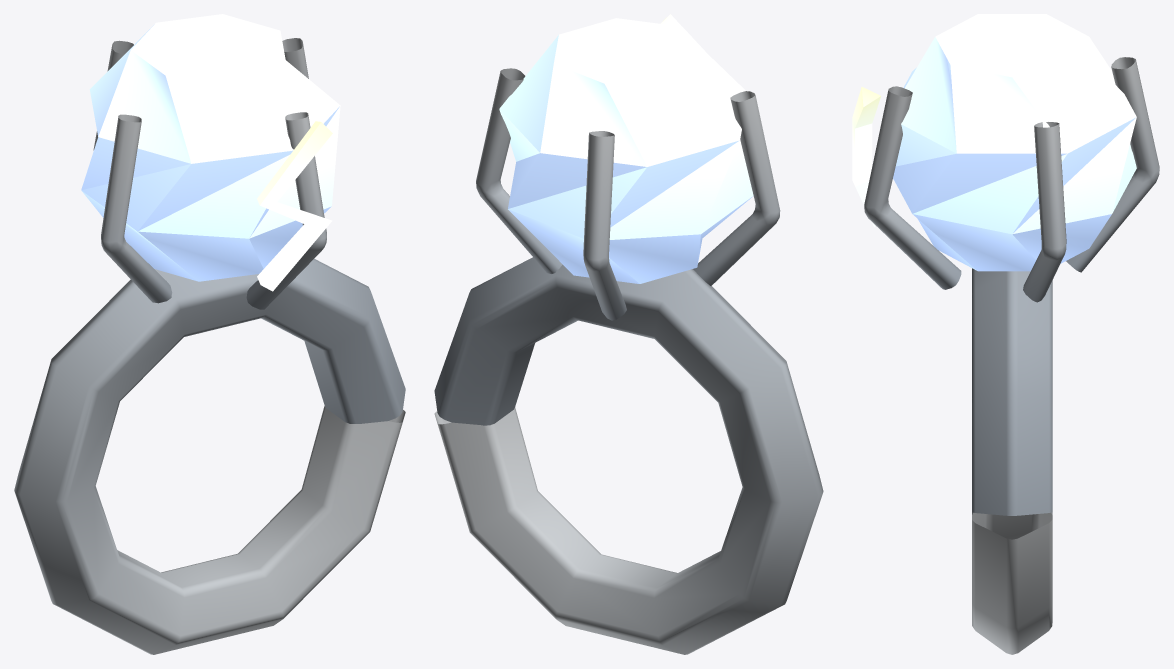
Rendered from lg_stormglass_ring.glb.
3 views of the same model, side by side, from view 1: azimuth 30°, elevation 25°; view 2: azimuth 150°, elevation 25°; view 3: azimuth 270°, elevation 25° (orthographic).
Visible parts, largest first — view 1: lg_stormglass_ring, lg_stormglass_ring_glow; view 2: lg_stormglass_ring, lg_stormglass_ring_glow; view 3: lg_stormglass_ring_glow, lg_stormglass_ring.
Boxes of the visible parts, x1=… form: lg_stormglass_ring: x1=14, y1=38, x2=405, y2=654; lg_stormglass_ring_glow: x1=81, y1=14, x2=340, y2=291; lg_stormglass_ring: x1=434, y1=68, x2=823, y2=654; lg_stormglass_ring_glow: x1=499, y1=14, x2=753, y2=283; lg_stormglass_ring_glow: x1=852, y1=14, x2=1136, y2=271; lg_stormglass_ring: x1=864, y1=57, x2=1159, y2=654.
Bounding box in the file's own units: 0.4921 × 0.7451 × 0.3431.
